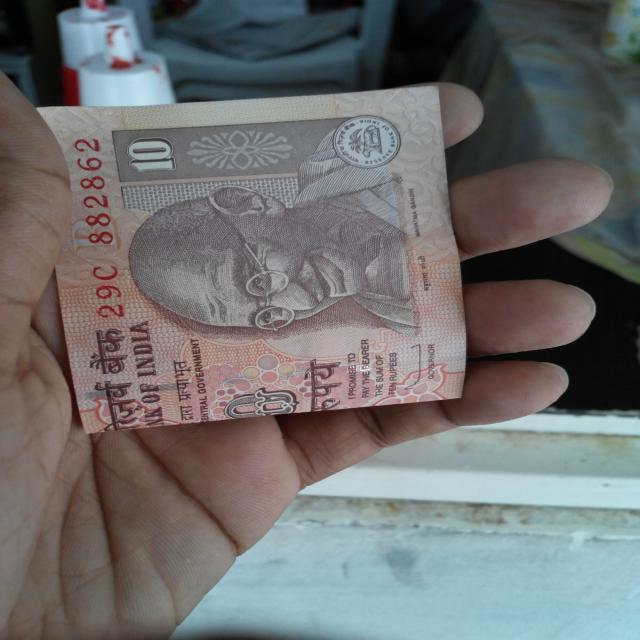10rs: (24, 89, 469, 427)
